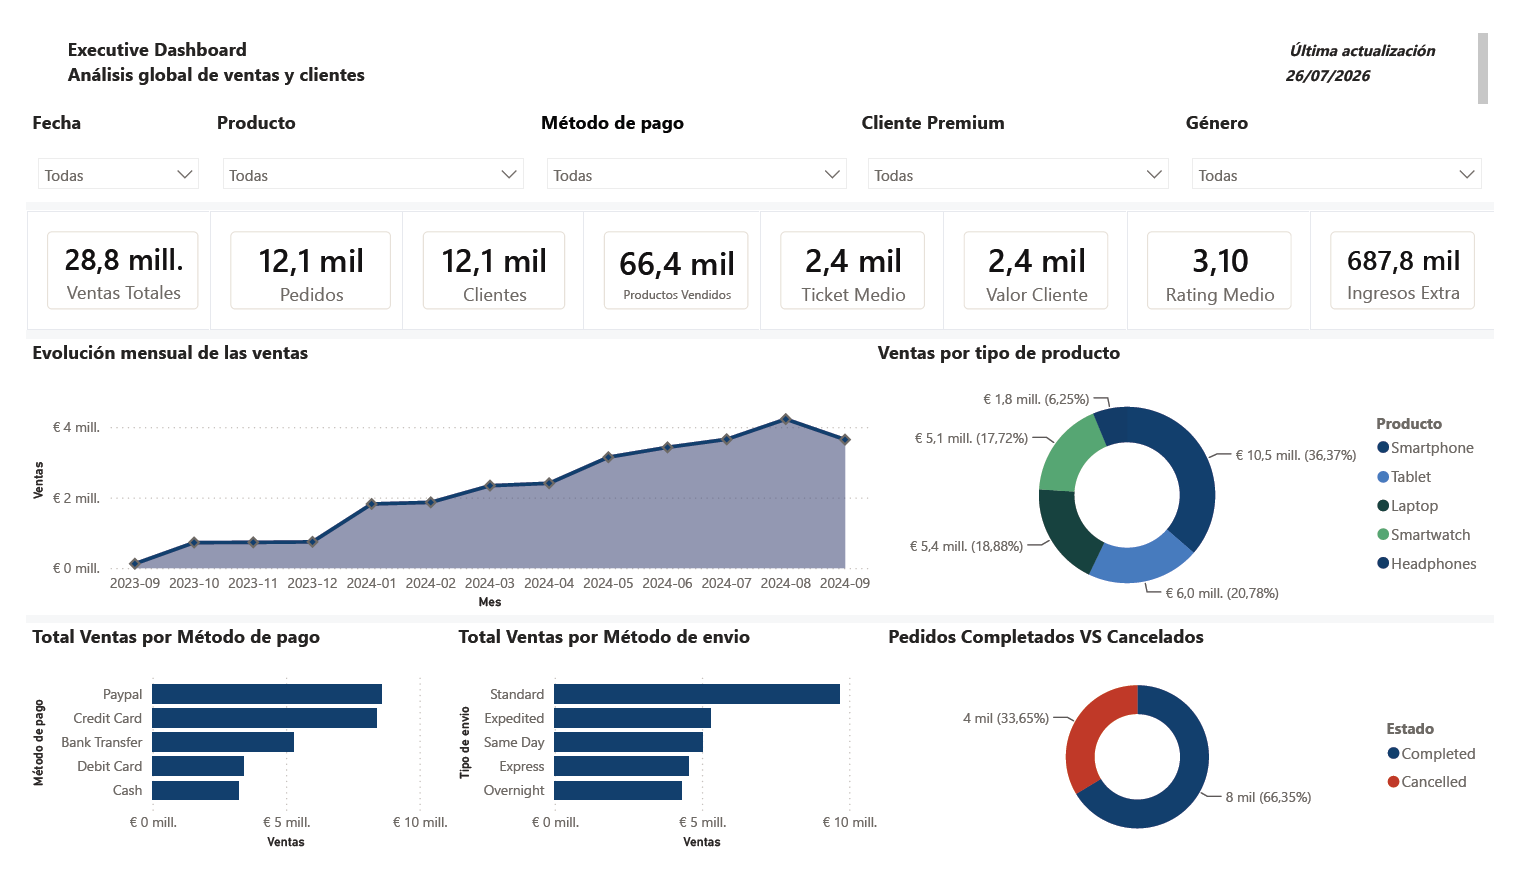

The page's visual inventory and layout, read from the dashboard file:
{"tool":"powerbi","page":{"name":"Executive Dashboard","canvas":[1280,720],"ordinal":0},"visuals":[{"type":"textbox","box":[0,0,1280,72],"z":0},{"type":"slicer","title":"Fecha","fields":{"Values":["Calendar.Date"]},"box":[0,72,161.5,80],"z":1000,"group":"g3"},{"type":"clusteredBarChart","title":"Total Ventas por Método de pago","fields":{"Category":["Orders.payment_method"],"Y":["_Measures.Total Sales"]},"box":[0,520,372.3,201],"z":1000},{"type":"group","id":"g1","title":"Grupo 1","box":[0,72,1280,80],"z":2000},{"type":"lineChart","title":"Evolución mensual de las ventas","fields":{"Y":["_Measures.Total Sales"],"Category":["Calendar.Year Month"]},"box":[0,272,744,240],"z":2000,"group":"g2"},{"type":"slicer","title":"Producto","fields":{"Values":["Products.product_type"]},"box":[161.5,72,282,79.9],"z":3000,"group":"g3"},{"type":"clusteredBarChart","title":"Total Ventas por Método de envio","fields":{"Y":["_Measures.Total Sales"],"Category":["Orders.shipping_type"]},"box":[372.3,520,375.1,201],"z":3000},{"type":"slicer","title":"Género","fields":{"Values":["Customers.gender"]},"box":[1006.7,72,273.3,80],"z":4000,"group":"g3"},{"type":"donutChart","title":"Pedidos Completados VS Cancelados","fields":{"Category":["Orders.order_status"],"Y":["_Measures.Total Orders"]},"box":[747.4,520,532.4,201],"z":4000},{"type":"cardVisual","fields":{"Data":["_Measures.Total Sales"]},"box":[0,160,168,104],"z":5000},{"type":"slicer","title":"Cliente Premium","fields":{"Values":["Customers.Customer Type"]},"box":[724.3,72,282.3,80],"z":6000,"group":"g3"},{"type":"cardVisual","title":"Ventas Totales","fields":{"Data":["_Measures.Total Orders"]},"box":[160,160,176,104],"z":6000},{"type":"slicer","title":"Método de pago","fields":{"Values":["Orders.payment_method"]},"box":[443.8,72,282,79.9],"z":7000,"group":"g3"},{"type":"cardVisual","title":"Ventas Totales","fields":{"Data":["_Measures.Unique Customers"]},"box":[328,160,160,104],"z":7000},{"type":"cardVisual","title":"Ventas Totales","fields":{"Data":["_Measures.Products Sold"]},"box":[486.1,160.1,162,103.9],"z":8000},{"type":"donutChart","title":"Ventas por tipo de producto","fields":{"Category":["Products.product_type"],"Y":["_Measures.Total Sales"]},"box":[738,272,542,240],"z":8000,"group":"g2"},{"type":"cardVisual","title":"Ventas Totales","fields":{"Data":["_Measures.Average Order Value"]},"box":[640,160.1,162,103.9],"z":9000},{"type":"cardVisual","title":"Ventas Totales","fields":{"Data":["_Measures.Average Customer Value"]},"box":[800,160,162,103.9],"z":10000},{"type":"group","id":"g2","title":"Grupo 3","box":[0,272,1280,240],"z":11000},{"type":"cardVisual","title":"Ventas Totales","fields":{"Data":["_Measures.Average Rating"]},"box":[960,160,162,103.9],"z":12000},{"type":"cardVisual","title":"Ventas Totales","fields":{"Data":["_Measures.Addon Revenue"]},"box":[1120,160,162,103.9],"z":13000},{"type":"group","id":"g3","title":"Grupo 2","box":[0,72,1280,80],"z":13003,"group":"g1"}]}

Visuals, with their boxes in screenshot pixels (x1, y1, x2, y2), scaled from the page's 1280x720 canvas onto the 1516x877 screenshot:
textbox: (x1=0, y1=0, x2=1515, y2=88)
"Fecha" slicer: (x1=0, y1=88, x2=191, y2=185)
"Total Ventas por Método de pago" clusteredBarChart: (x1=0, y1=633, x2=441, y2=876)
"Grupo 1" group: (x1=0, y1=88, x2=1515, y2=185)
"Evolución mensual de las ventas" lineChart: (x1=0, y1=331, x2=881, y2=624)
"Producto" slicer: (x1=191, y1=88, x2=525, y2=185)
"Total Ventas por Método de envio" clusteredBarChart: (x1=441, y1=633, x2=885, y2=876)
"Género" slicer: (x1=1192, y1=88, x2=1515, y2=185)
"Pedidos Completados VS Cancelados" donutChart: (x1=885, y1=633, x2=1515, y2=876)
cardVisual - _Measures.Total Sales: (x1=0, y1=195, x2=199, y2=322)
"Cliente Premium" slicer: (x1=858, y1=88, x2=1192, y2=185)
"Ventas Totales" cardVisual: (x1=190, y1=195, x2=398, y2=322)
"Método de pago" slicer: (x1=526, y1=88, x2=860, y2=185)
"Ventas Totales" cardVisual: (x1=388, y1=195, x2=578, y2=322)
"Ventas Totales" cardVisual: (x1=576, y1=195, x2=768, y2=322)
"Ventas por tipo de producto" donutChart: (x1=874, y1=331, x2=1515, y2=624)
"Ventas Totales" cardVisual: (x1=758, y1=195, x2=950, y2=322)
"Ventas Totales" cardVisual: (x1=948, y1=195, x2=1139, y2=321)
"Grupo 3" group: (x1=0, y1=331, x2=1515, y2=624)
"Ventas Totales" cardVisual: (x1=1137, y1=195, x2=1329, y2=321)
"Ventas Totales" cardVisual: (x1=1326, y1=195, x2=1515, y2=321)
"Grupo 2" group: (x1=0, y1=88, x2=1515, y2=185)
